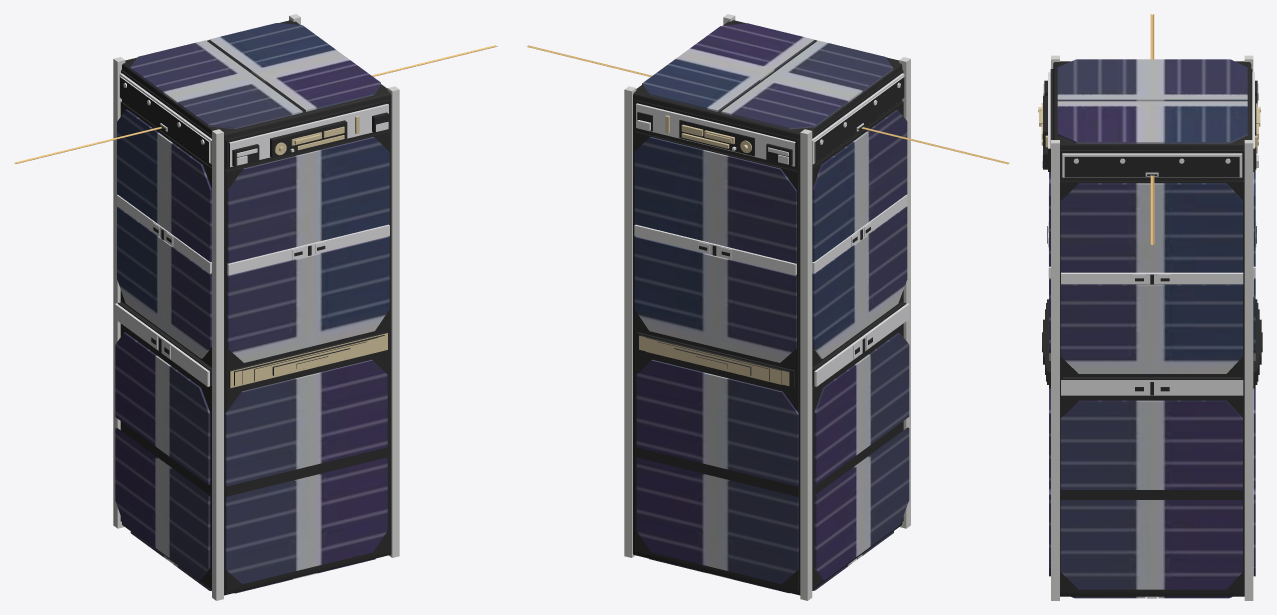
File: cubesat-2u.glb
The picture shows the model from 3 angles, left to right: view 1: azimuth 30°, elevation 25°; view 2: azimuth 150°, elevation 25°; view 3: azimuth 270°, elevation 25°; orthographic projection. The views are drawn at different scales.
Parts seen in each view (by area): view 1: Layer_0; view 2: Layer_0; view 3: Layer_0.
Boxes of the visible parts, <box> form: Layer_0: <box>14,14,497,600</box>; Layer_0: <box>527,14,1009,600</box>; Layer_0: <box>1038,14,1262,600</box>.
Size of the model in its own units: 0.2434 by 0.2261 by 0.1001.
6 materials, 1 textured.
